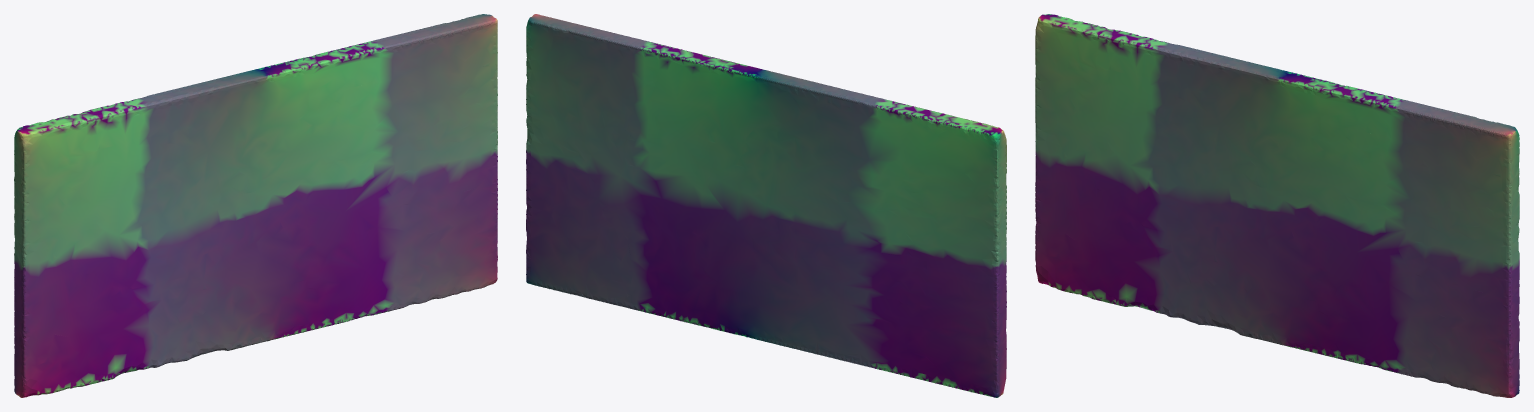
The model's file is paper-18.off.obj.
The picture shows the model from 3 angles, left to right: view 1: azimuth 30°, elevation 25°; view 2: azimuth 150°, elevation 25°; view 3: azimuth 330°, elevation 25°; orthographic projection.
Bounding box in the file's own units: 1.61 × 0.8589 × 0.062.
